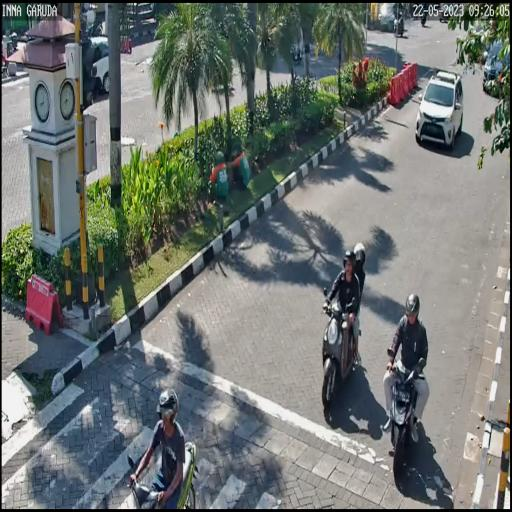mobil: (416, 71, 463, 159)
motor: (378, 348, 432, 486), (122, 441, 214, 512), (322, 284, 362, 412)
